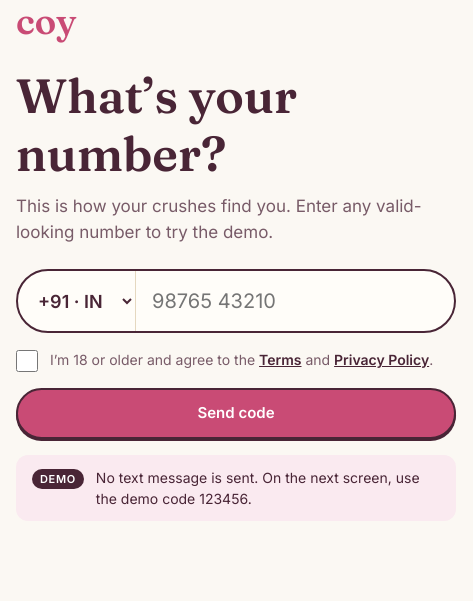
Test: LoginPage › clears the errors once the user fixes the fields
Click the button "Send code" at (236, 413), box 16,388 -> 456,439
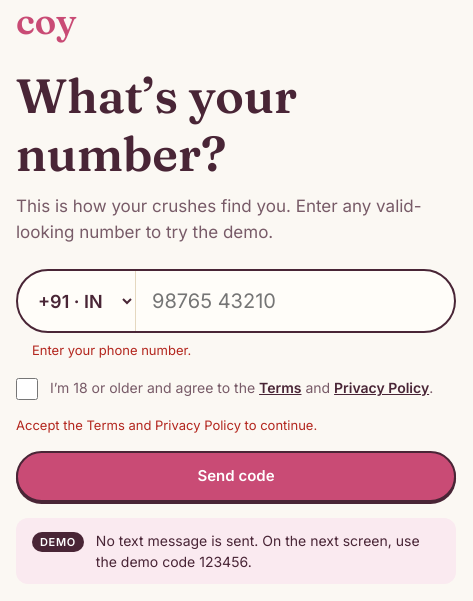
Type "9876543210" into the field named "Phone number" at (295, 301), box 136,271 -> 454,331
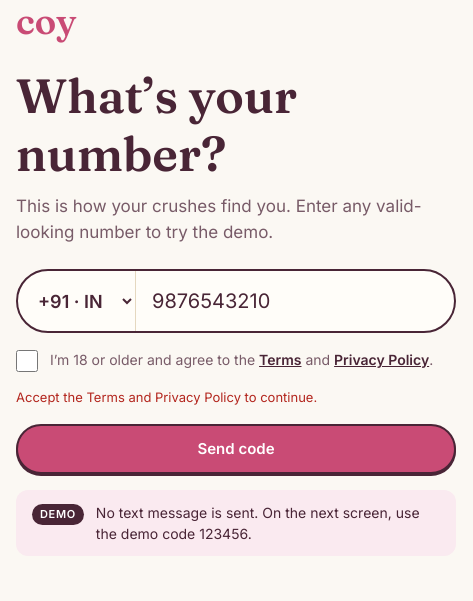
Click the checkbox at (27, 361), box 16,350 -> 38,372
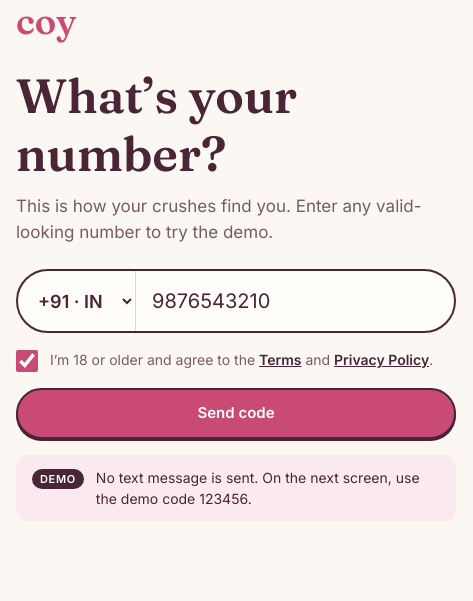
Now the message "Accept the Terms and Privacy Policy to continue." is gone
